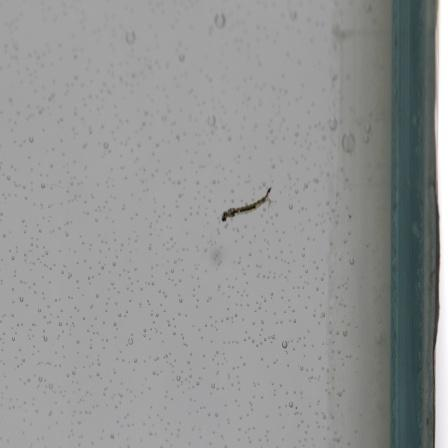Jentik-Nyamuk: (217, 181, 274, 225)
